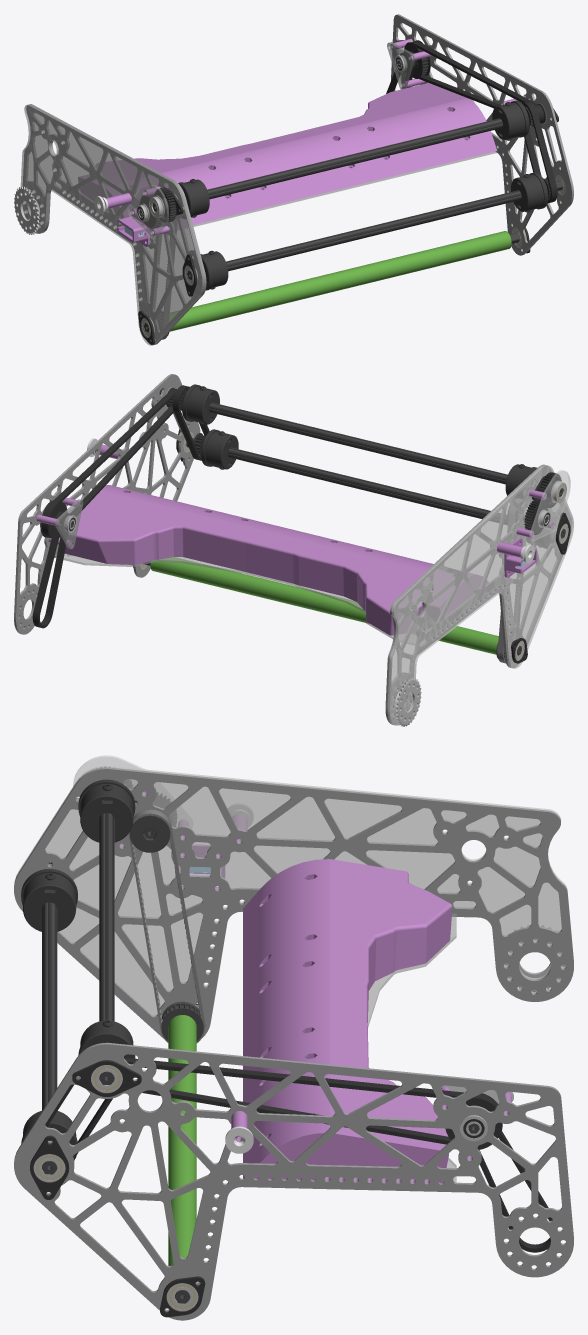
The picture shows the model from 3 angles, top to bottom: view 1: azimuth 30°, elevation 25°; view 2: azimuth 150°, elevation 25°; view 3: azimuth 270°, elevation 25°; orthographic projection. The views are drawn at different scales.
Parts seen in each view (by area): view 1: 400-001.1 Main Plate Left, 400-002.1 Aluminum Reinforcement Left, Intake_Right_Ramp, Intake_Middle_Ramp, 400-002 Aluminum Reinforcement, Intake_Left_Ramp, 1/2" Rounded Hex (21.625" L, 13.75mm OD) (×2), Roller Endcap_None_24_Tooth_Square Nut (×4), 400-010 1/2" Rounded Hex (REV) (23.375 in), 400-011 1/2" Rounded Hex (REV) (24.375 in), 155T 5M 9mm Wide Belt, 400-023 Gear Protection Plate (+8 smaller); view 2: 400-001.1 Main Plate Left, 400-002.1 Aluminum Reinforcement Left, Intake_Right_Ramp, 400-002 Aluminum Reinforcement, Intake_Middle_Ramp, Intake_Left_Ramp, 1/2" Rounded Hex (21.625" L, 13.75mm OD) (×2), Roller Endcap_None_24_Tooth_Square Nut (×3), 400-011 1/2" Rounded Hex (REV) (24.375 in), 155T 5M 9mm Wide Belt, 400-010 1/2" Rounded Hex (REV) (23.375 in), 70T 5M 9mm Wide Belt (+8 smaller); view 3: 400-002 Aluminum Reinforcement, 400-002.1 Aluminum Reinforcement Left, 400-001.1 Main Plate Left, Intake_Left_Ramp, Intake_Right_Ramp, Intake_Middle_Ramp, Roller Endcap_None_24_Tooth_Square Nut (×3), 155T 5M 9mm Wide Belt, 1/2" Rounded Hex (21.625" L, 13.75mm OD) (×2), 400-011 1/2" Rounded Hex (REV) (24.375 in), 400-010 1/2" Rounded Hex (REV) (23.375 in), 1.125" OD Bearing Retention Plate (Centered, 2" C-C) (×2) (+6 smaller).
Part boxes in pixels (x1,y1,x2,y2): 400-001.1 Main Plate Left: [20, 104, 204, 345]; 400-002.1 Aluminum Reinforcement Left: [22, 104, 206, 345]; Intake_Right_Ramp: [335, 83, 497, 180]; Intake_Middle_Ramp: [212, 123, 374, 210]; 400-002 Aluminum Reinforcement: [391, 14, 573, 255]; Intake_Left_Ramp: [78, 153, 252, 228]; 1/2" Rounded Hex (21.625" L, 13.75mm OD) (×2): [207, 118, 521, 270]; Roller Endcap_None_24_Tooth_Square Nut (×4): [178, 100, 548, 290]; 400-010 1/2" Rounded Hex (REV) (23.375 in): [187, 180, 562, 280]; 400-011 1/2" Rounded Hex (REV) (24.375 in): [152, 118, 502, 211]; 155T 5M 9mm Wide Belt: [411, 41, 544, 123]; 400-023 Gear Protection Plate: [128, 185, 169, 239]; 400-001.1 Main Plate Left: [387, 465, 573, 725]; 400-002.1 Aluminum Reinforcement Left: [385, 464, 571, 725]; Intake_Right_Ramp: [58, 485, 231, 564]; 400-002 Aluminum Reinforcement: [14, 374, 200, 634]; Intake_Middle_Ramp: [207, 515, 355, 593]; Intake_Left_Ramp: [331, 545, 488, 635]; 1/2" Rounded Hex (21.625" L, 13.75mm OD) (×2): [209, 402, 507, 524]; Roller Endcap_None_24_Tooth_Square Nut (×3): [182, 384, 537, 498]; 400-011 1/2" Rounded Hex (REV) (24.375 in): [209, 402, 563, 496]; 155T 5M 9mm Wide Belt: [42, 388, 176, 538]; 400-010 1/2" Rounded Hex (REV) (23.375 in): [186, 438, 565, 538]; 70T 5M 9mm Wide Belt: [32, 512, 67, 628]; 400-002 Aluminum Reinforcement: [14, 1042, 573, 1320]; 400-002.1 Aluminum Reinforcement Left: [14, 767, 573, 1038]; 400-001.1 Main Plate Left: [14, 765, 573, 1015]; Intake_Left_Ramp: [243, 859, 452, 998]; Intake_Right_Ramp: [243, 1041, 448, 1183]; Intake_Middle_Ramp: [243, 949, 368, 1090]; Roller Endcap_None_24_Tooth_Square Nut (×3): [21, 779, 135, 1058]; 155T 5M 9mm Wide Belt: [124, 1057, 496, 1144]; 1/2" Rounded Hex (21.625" L, 13.75mm OD) (×2): [42, 813, 113, 1110]; 400-011 1/2" Rounded Hex (REV) (24.375 in): [99, 813, 114, 1084]; 400-010 1/2" Rounded Hex (REV) (23.375 in): [42, 902, 57, 1174]; 1.125" OD Bearing Retention Plate (Centered, 2" C-C) (×2): [30, 1060, 141, 1199].
Bounding box in the file's own units: 0.6858 × 0.2721 × 0.4995.
